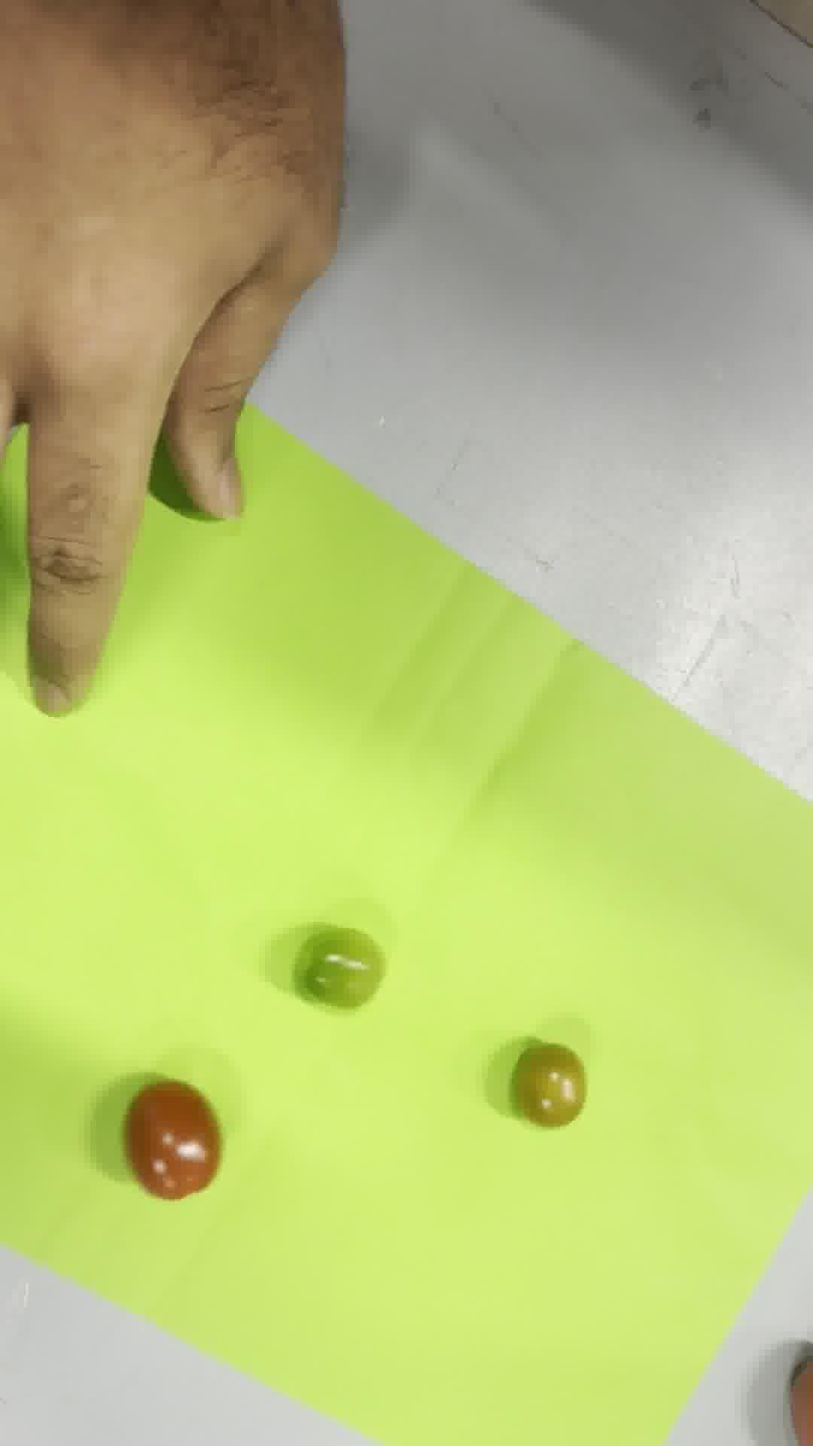green_cherry_tomato: (302, 926, 384, 1008)
red_cherry_tomato: (125, 1079, 220, 1200)
yellow_cherry_tomato: (513, 1042, 586, 1127)
